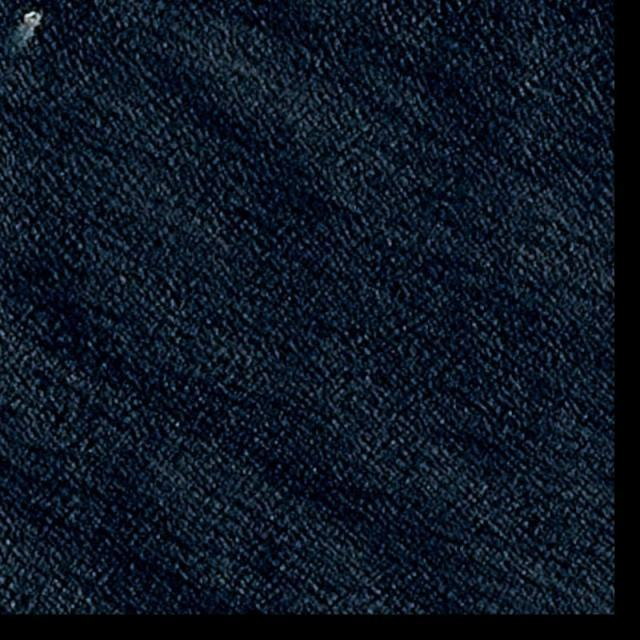ship: (27, 12, 38, 26)
